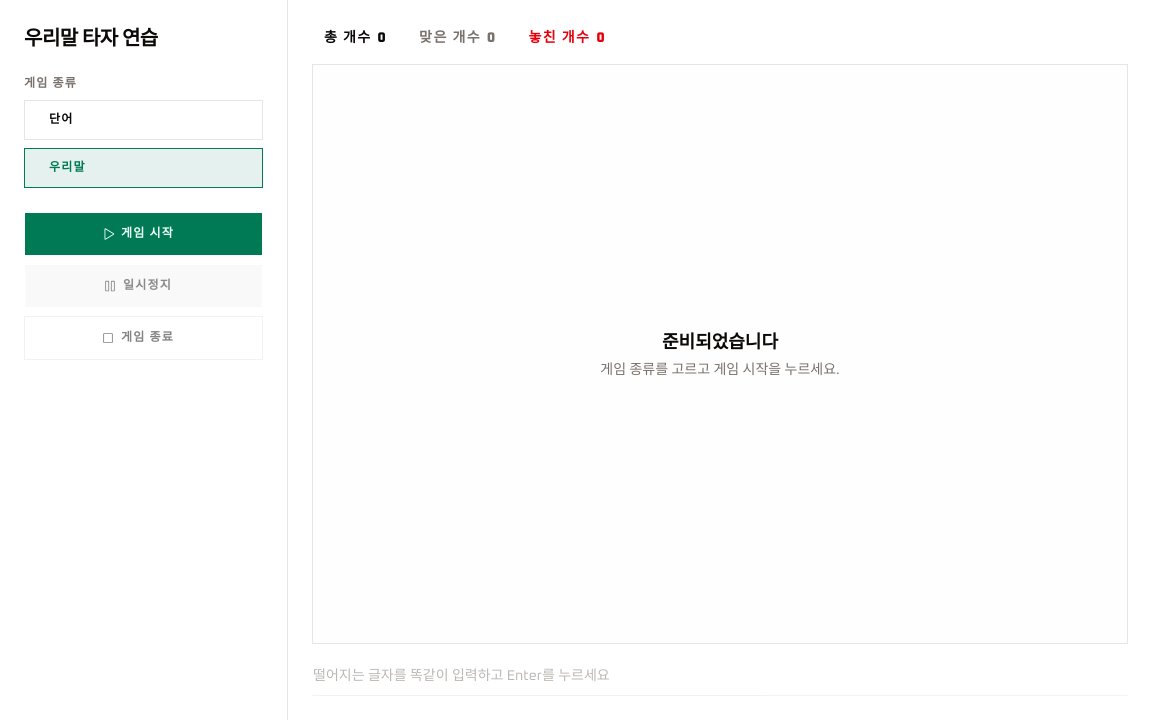
Scenario: 일치하지 않는 입력은 개수를 바꾸지 않고 입력창만 비운다
Click the button "게임 시작".
click(144, 234)  # box left=24, top=212, right=263, bottom=256
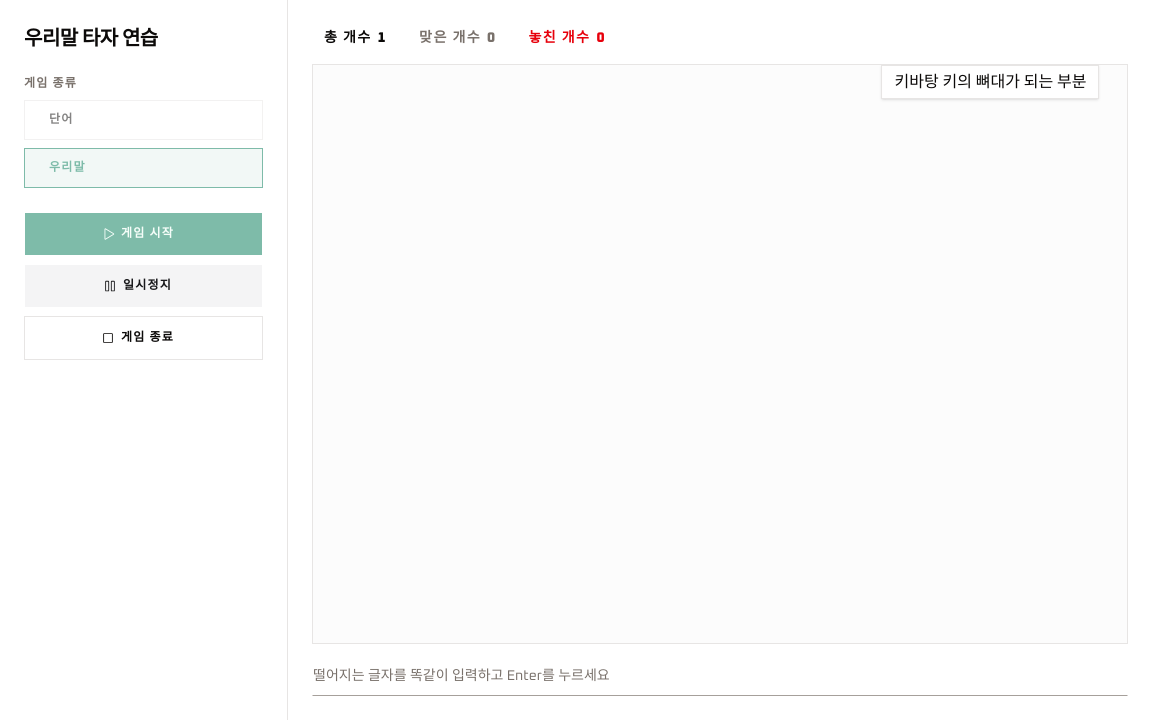
Type "전혀 다른 글자" into the field named "타이핑 입력".
click(720, 676); type("전혀 다른 글자")  # box left=312, top=656, right=1128, bottom=696
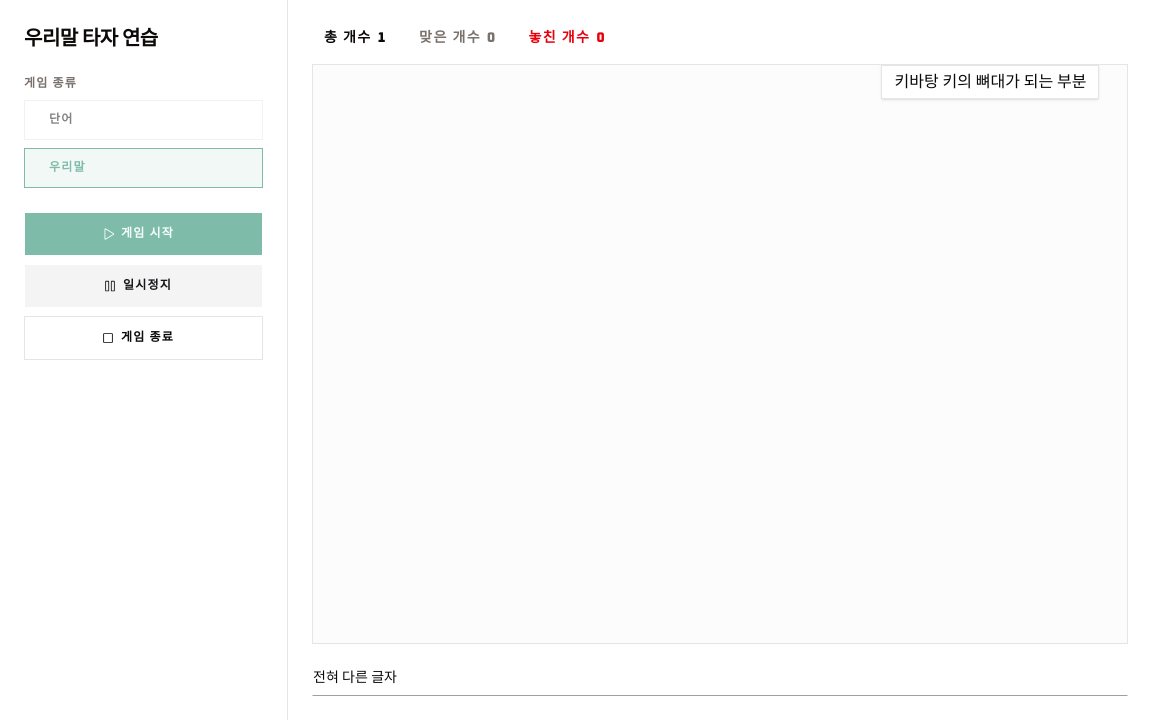
Press Enter in the field named "타이핑 입력", box left=312, top=656, right=1128, bottom=696
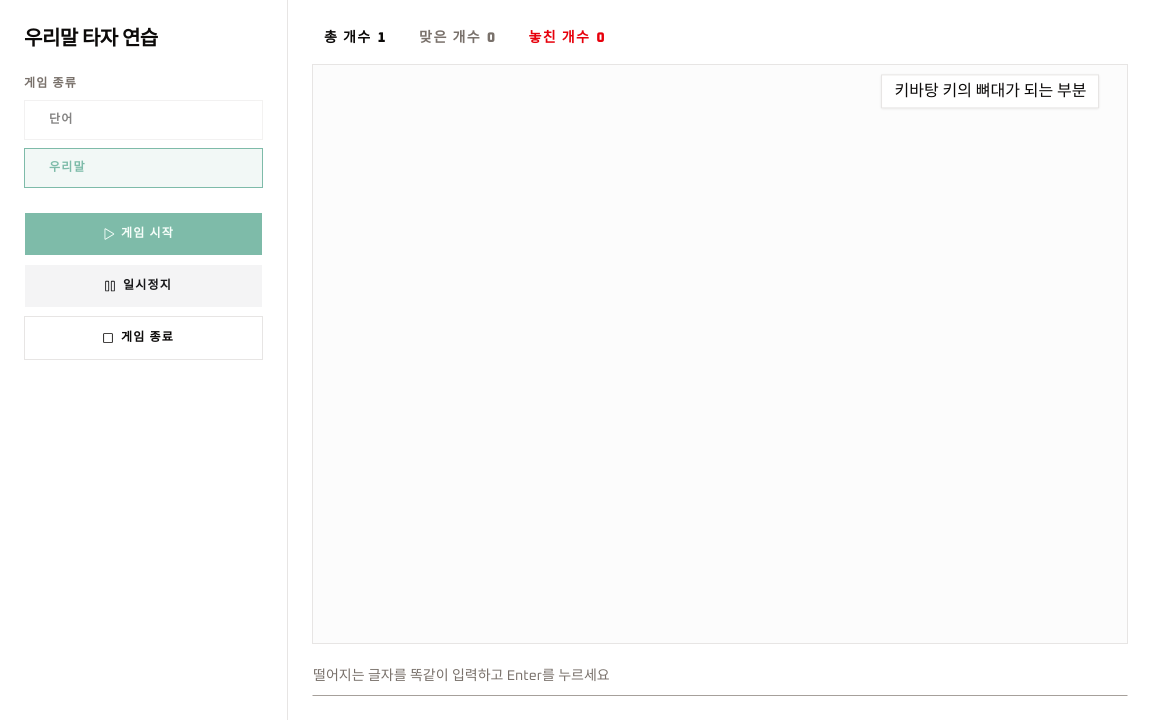
Expected: the text "키바탕 키의 뼈대가 되는 부분" is shown, left=882, top=75, right=1100, bottom=109
Expected: the field named "타이핑 입력" is empty, left=312, top=656, right=1128, bottom=696
